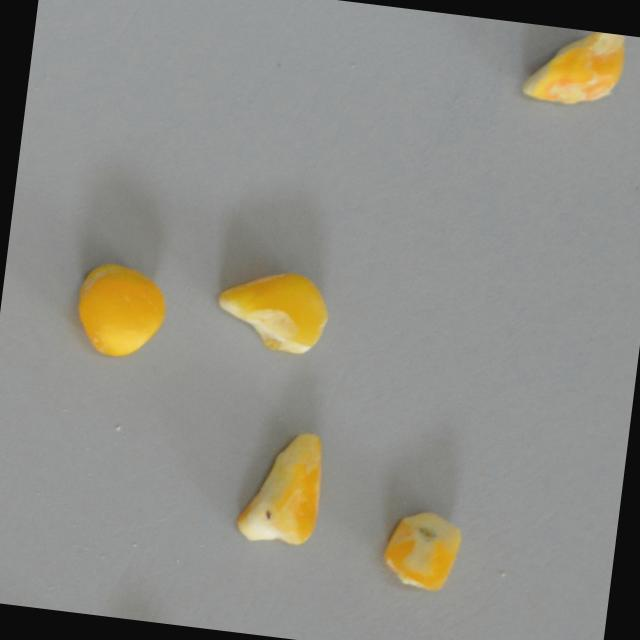dañado: (517, 23, 632, 116), (375, 499, 472, 602)
estandar: (209, 258, 339, 359), (69, 260, 185, 365)
punto_negro: (232, 422, 331, 552)
